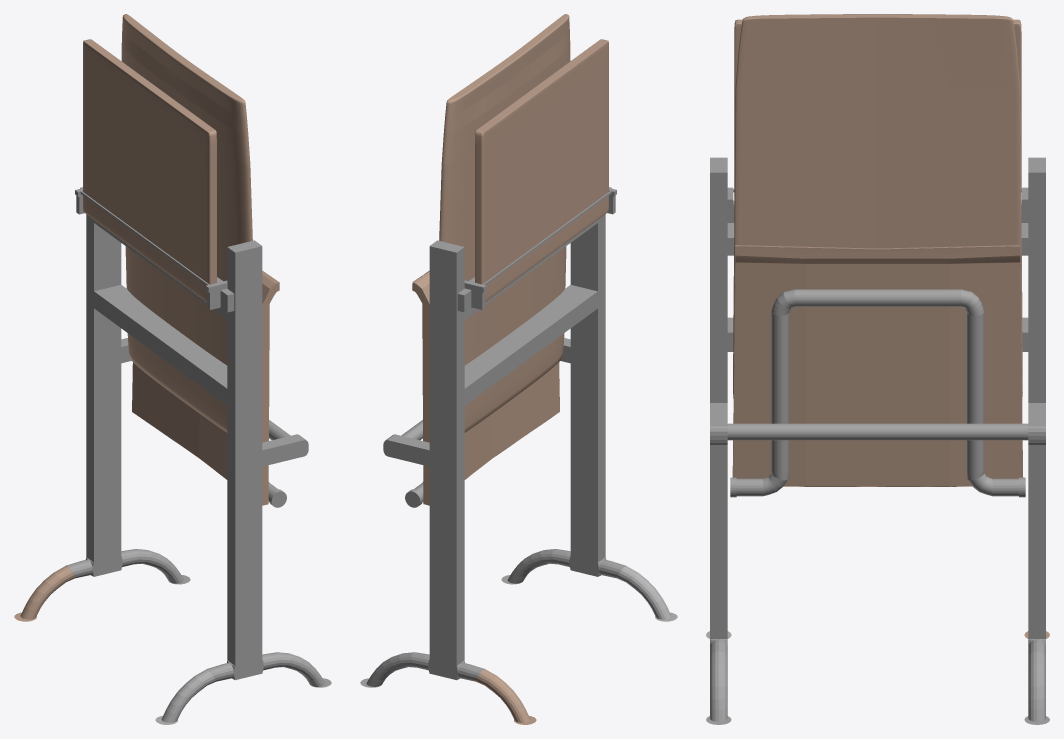
Rendered from krzesla_sala_wykladowa.fbx.
3 views of the same model, side by side, from view 1: azimuth 30°, elevation 25°; view 2: azimuth 150°, elevation 25°; view 3: azimuth 270°, elevation 25° (orthographic). The views are drawn at different scales.
Parts seen in each view (by area): view 1: Cube, Cube.001, Cube.002, Cube.003; view 2: Cube, Cube.001, Cube.002, Cube.003; view 3: Cube.001, Cube, Cube.002, Cube.003.
Boxes of the visible parts, x1=… form: Cube: x1=14, y1=214, x2=331, y2=724; Cube.001: x1=121, y1=14, x2=279, y2=505; Cube.002: x1=83, y1=39, x2=216, y2=301; Cube.003: x1=75, y1=187, x2=234, y2=312; Cube: x1=360, y1=214, x2=677, y2=724; Cube.001: x1=412, y1=14, x2=570, y2=505; Cube.002: x1=475, y1=39, x2=608, y2=301; Cube.003: x1=457, y1=187, x2=616, y2=312; Cube.001: x1=732, y1=14, x2=1023, y2=486; Cube: x1=706, y1=157, x2=1049, y2=724; Cube.002: x1=734, y1=19, x2=1021, y2=200; Cube.003: x1=727, y1=187, x2=1028, y2=222.
Bounding box in the file's own units: 127 × 414 × 194.
